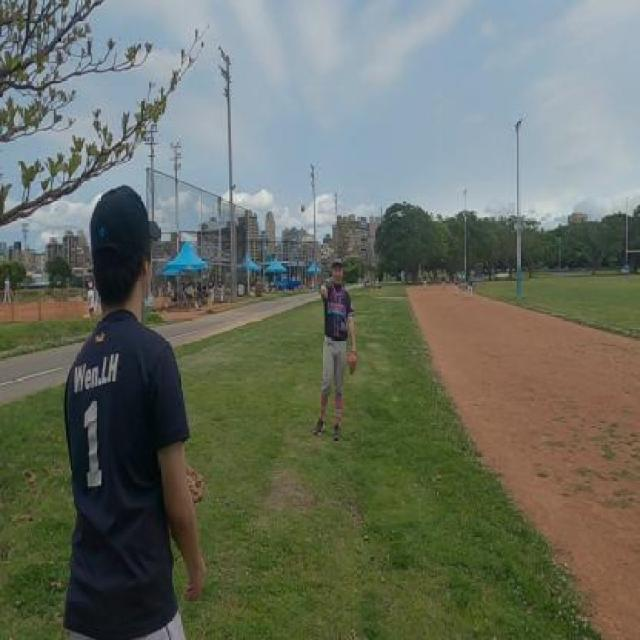baseball: (301, 205, 305, 212)
